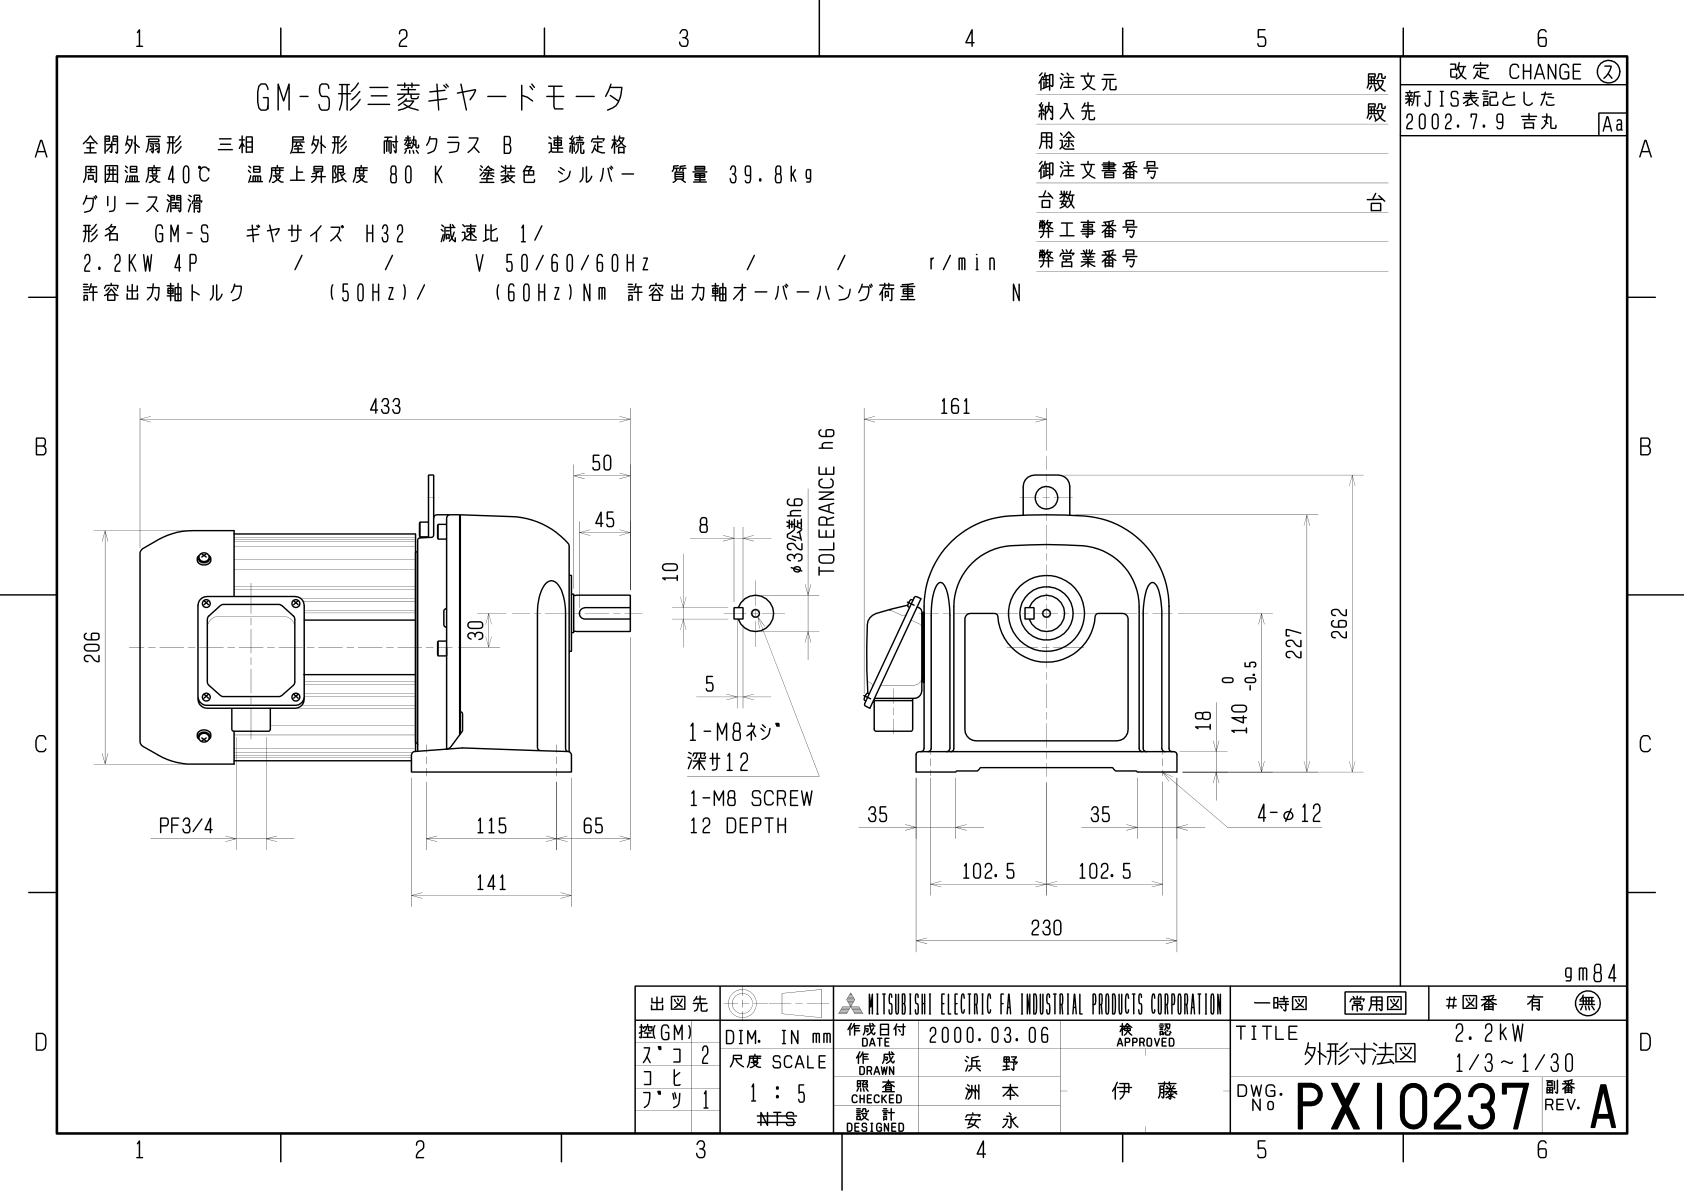GM_S_屋外＿三相_脚: (6, 6, 1684, 1191)
